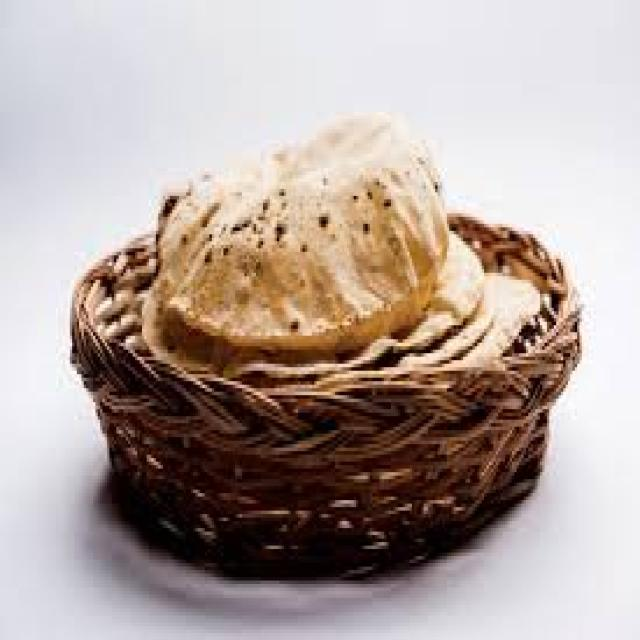chapathi: (160, 157, 489, 370)
